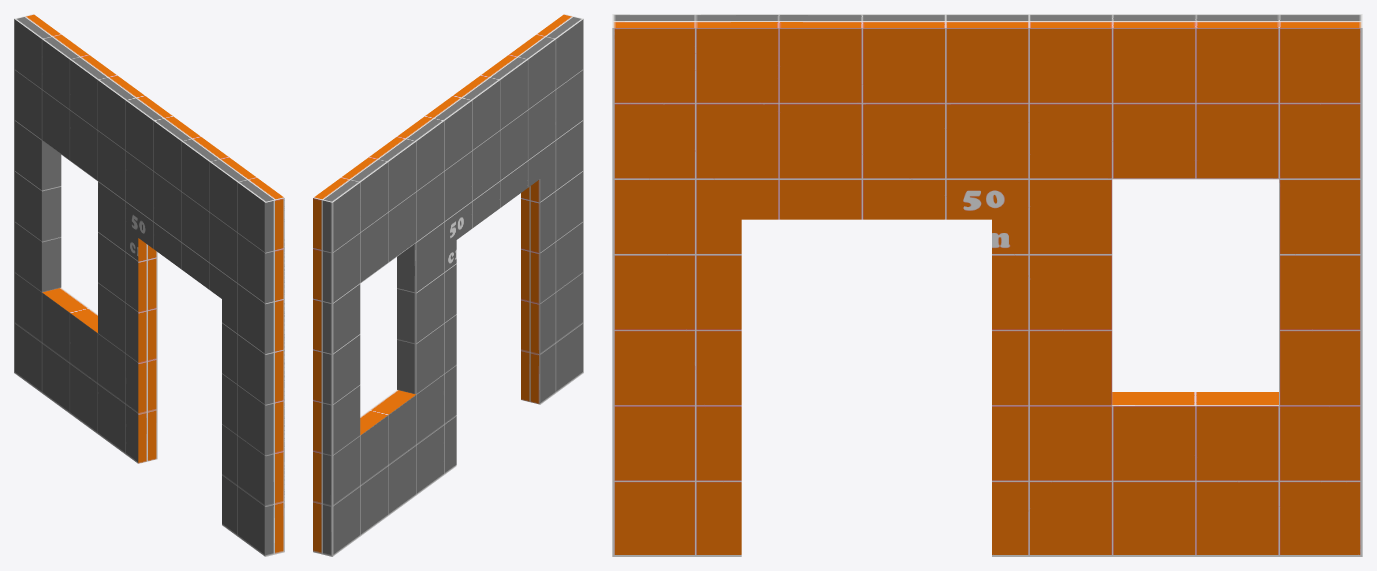
The model's file is casa_puerta_03.fbx.
3 renders of one model, left to right at view 1: azimuth 30°, elevation 25°; view 2: azimuth 150°, elevation 25°; view 3: azimuth 270°, elevation 25°, orthographic. The views are drawn at different scales.
Visible parts, largest first — view 1: casa_puerta_03; view 2: casa_puerta_03; view 3: casa_puerta_03.
Part boxes in pixels (left/top/right/bottom): casa_puerta_03: left=14, top=14, right=284, bottom=556; casa_puerta_03: left=313, top=14, right=583, bottom=556; casa_puerta_03: left=612, top=14, right=1362, bottom=556.
Bounding box in the file's own units: 20 × 350 × 450.
